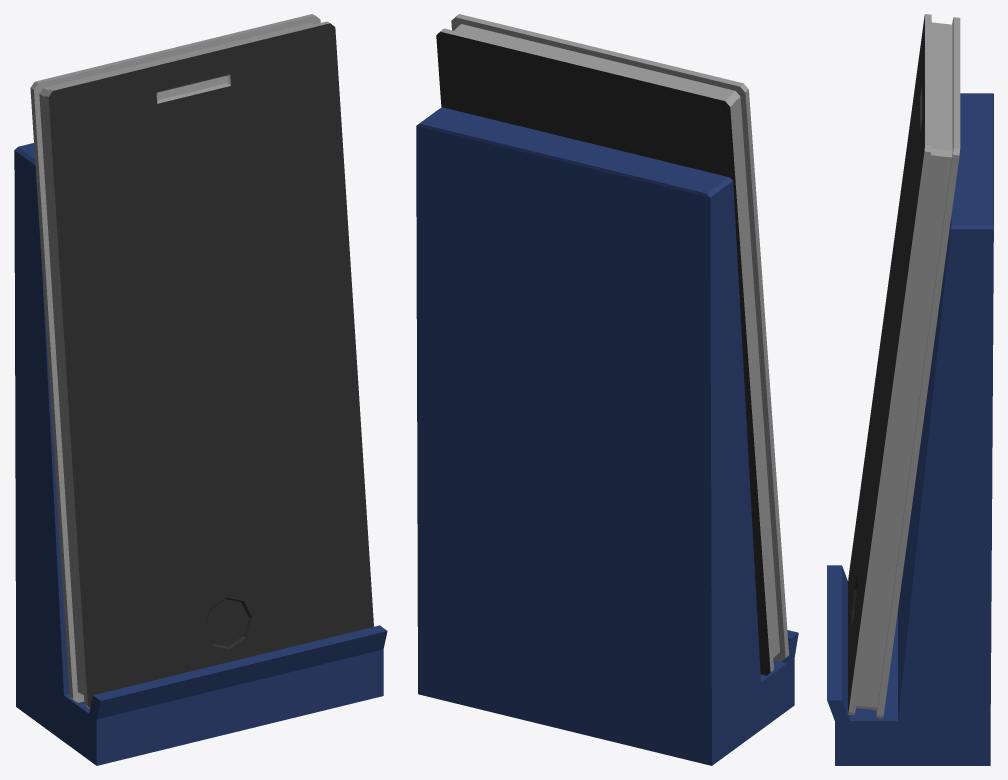
File: phone-with-stand.glb
The picture shows the model from 3 angles, left to right: view 1: azimuth 30°, elevation 25°; view 2: azimuth 150°, elevation 25°; view 3: azimuth 270°, elevation 25°; orthographic projection. The views are drawn at different scales.
Parts seen in each view (by area): view 1: Phone, PhoneStand, PhoneMetal; view 2: PhoneStand, Phone, PhoneMetal; view 3: PhoneStand, PhoneMetal, Phone.
Boxes of the visible parts, left/top/right/bottom form: Phone: left=48, top=23, right=373, bottom=707; PhoneStand: left=14, top=143, right=387, bottom=765; PhoneMetal: left=30, top=14, right=329, bottom=708; PhoneStand: left=416, top=107, right=798, bottom=765; Phone: left=436, top=32, right=770, bottom=675; PhoneMetal: left=437, top=14, right=789, bottom=672; PhoneStand: left=827, top=93, right=993, bottom=765; PhoneMetal: left=848, top=14, right=960, bottom=718; Phone: left=848, top=15, right=924, bottom=713.
Bounding box in the file's own units: 3.35 × 7.1 × 1.74.
